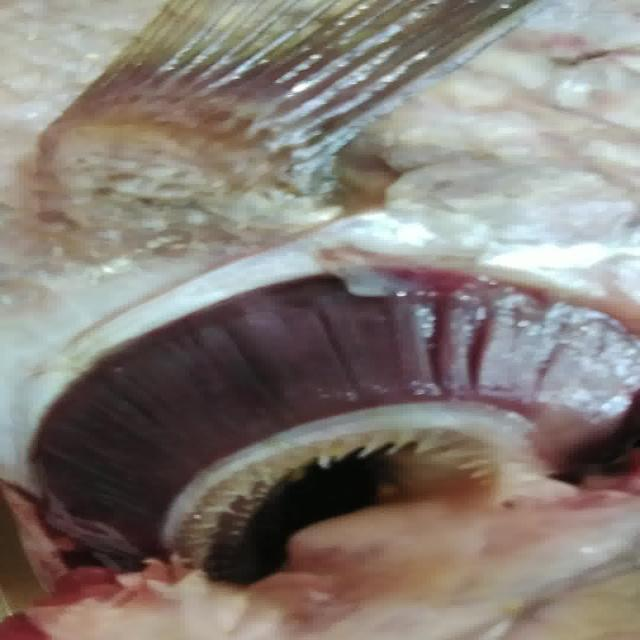Non-Fresh: (42, 251, 612, 590)
